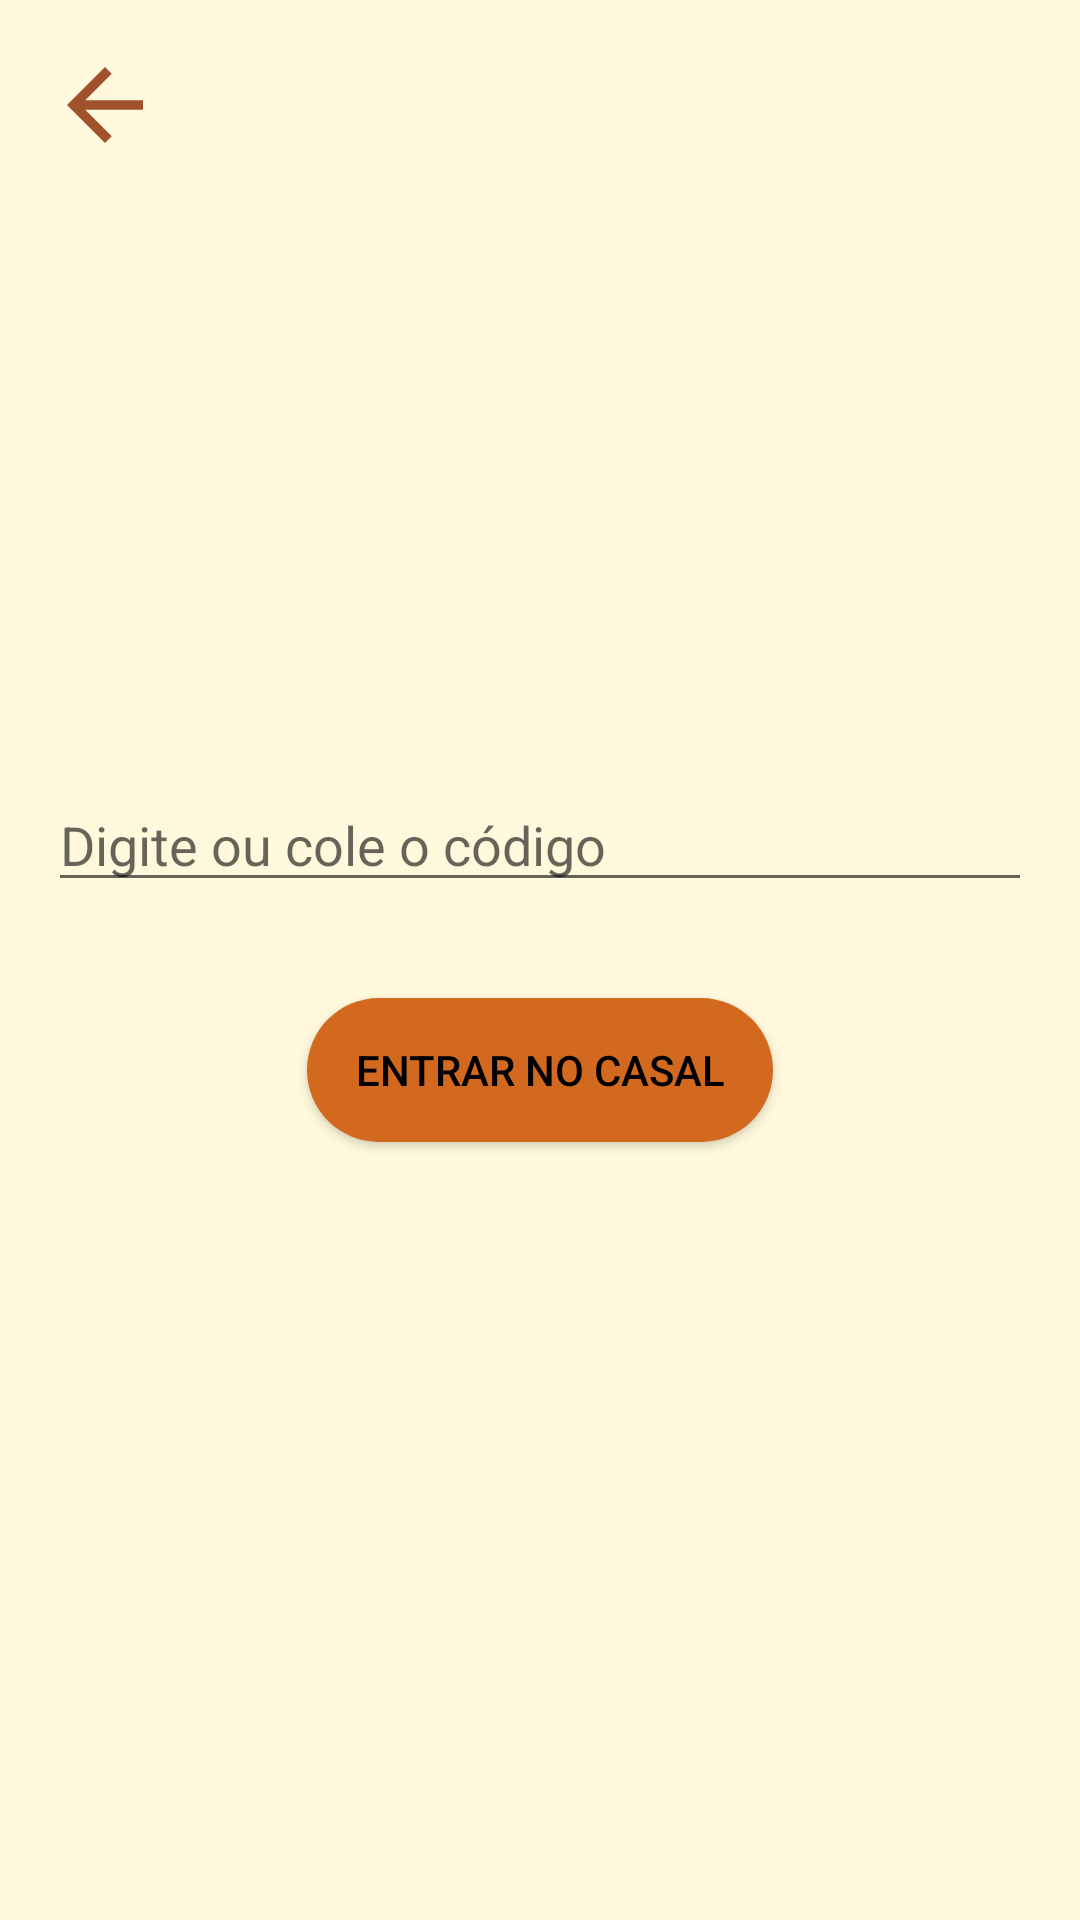

Icon bounding boxes for this 1080*1920 phone screenshot, format [x1, y1, x2, y2]:
Voltar: [67, 67, 143, 143]
